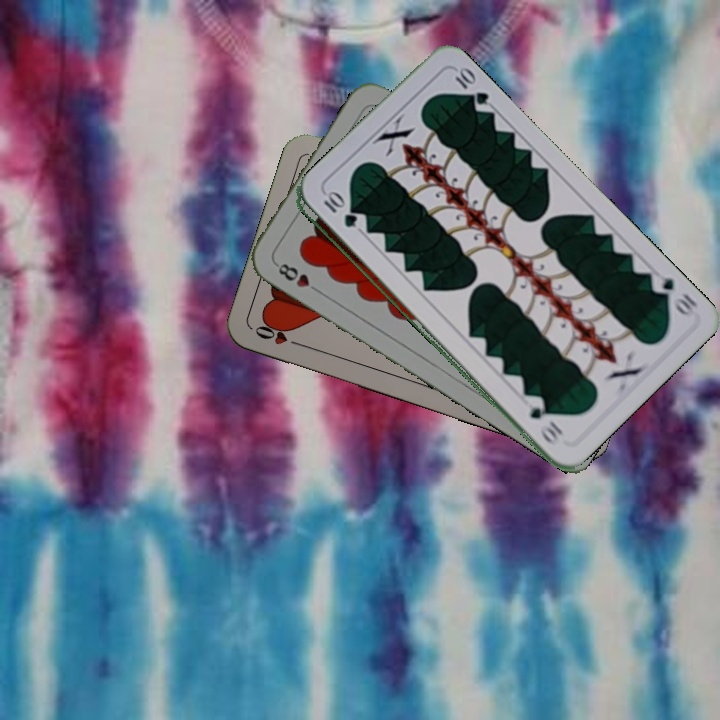G10: (646, 269, 701, 318), (319, 190, 359, 231)
H8: (271, 258, 324, 296)
HO: (251, 319, 308, 350)
